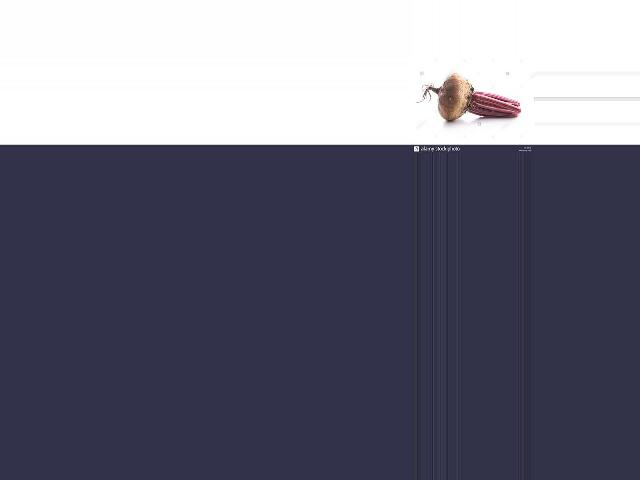beet: (416, 73, 521, 121)
